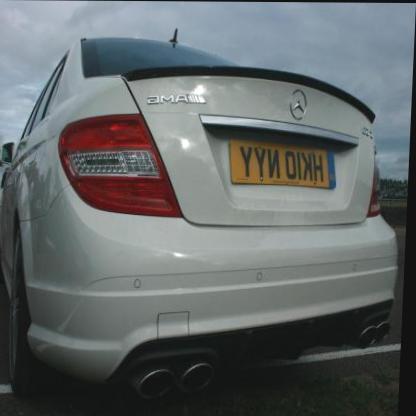License_Plate: (228, 139, 338, 190)
